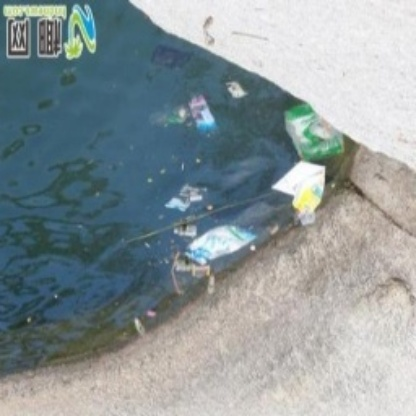plastic-bag: (272, 160, 330, 217), (183, 224, 256, 265)
